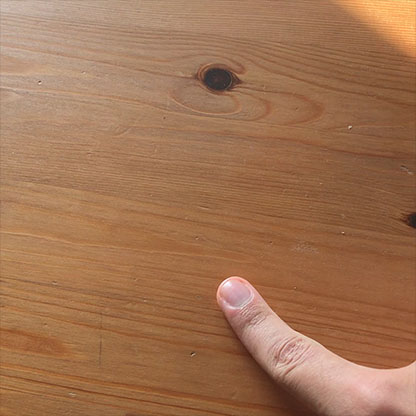fingertip: (209, 270, 262, 320)
